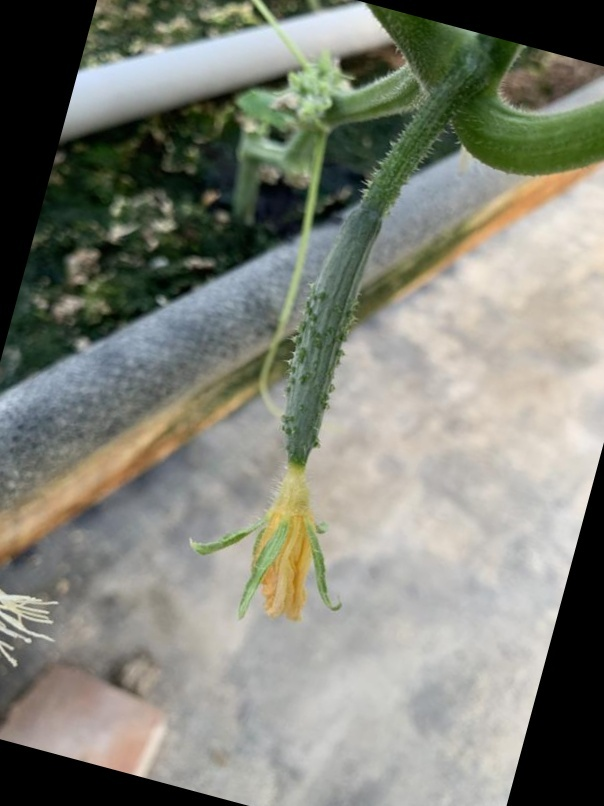bear: (200, 193, 402, 625)
